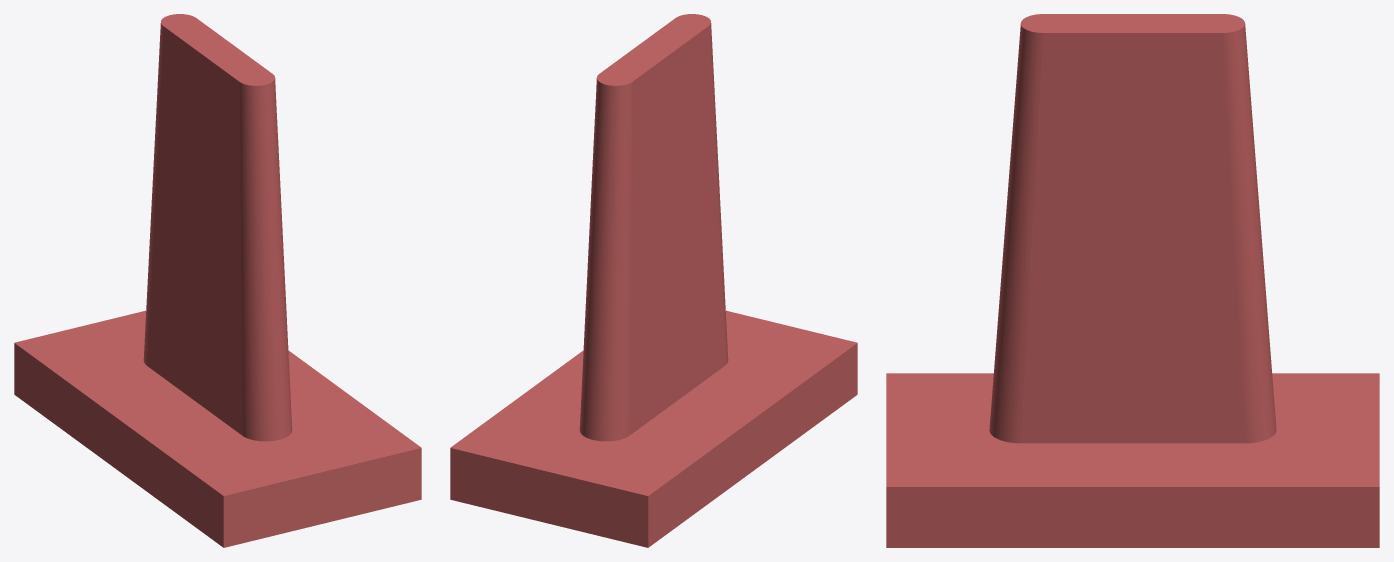
File: bridge3_piers.obj
3 renders of one model, left to right at view 1: azimuth 30°, elevation 25°; view 2: azimuth 150°, elevation 25°; view 3: azimuth 270°, elevation 25°, orthographic. The views are drawn at different scales.
Visible parts, largest first — view 1: mesh_0; view 2: mesh_0; view 3: mesh_0.
Part boxes in pixels (x1=…): mesh_0: x1=14, y1=14, x2=421, y2=547; mesh_0: x1=450, y1=14, x2=857, y2=547; mesh_0: x1=886, y1=14, x2=1379, y2=547.
Bounding box in the file's own units: 6 × 11.5 × 11.
